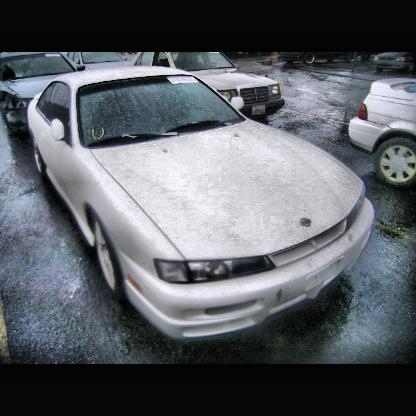Nissan 240SX Coupe 1998: (30, 69, 376, 343)
